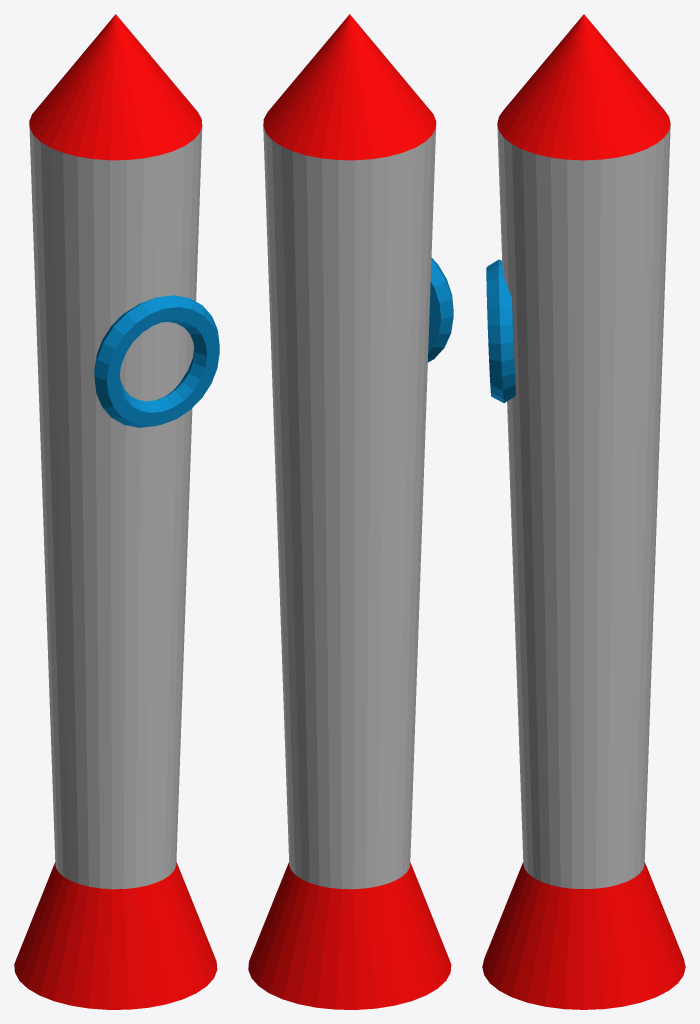
Rendered from rocket.obj.
3 renders of one model, left to right at view 1: azimuth 30°, elevation 25°; view 2: azimuth 150°, elevation 25°; view 3: azimuth 270°, elevation 25°, orthographic.
Parts seen in each view (by area): view 1: Cylinder, Torus.001; view 2: Cylinder, Torus.001; view 3: Cylinder, Torus.001.
Boxes of the visible parts, left/top/right/bottom form: Cylinder: left=14, top=14, right=217, bottom=1009; Torus.001: left=94, top=295, right=219, bottom=427; Cylinder: left=248, top=14, right=451, bottom=1009; Torus.001: left=428, top=258, right=453, bottom=362; Cylinder: left=482, top=14, right=685, bottom=1009; Torus.001: left=486, top=259, right=515, bottom=402.
Bounding box in the file's own units: 0.3654 × 1.89 × 0.3654.
